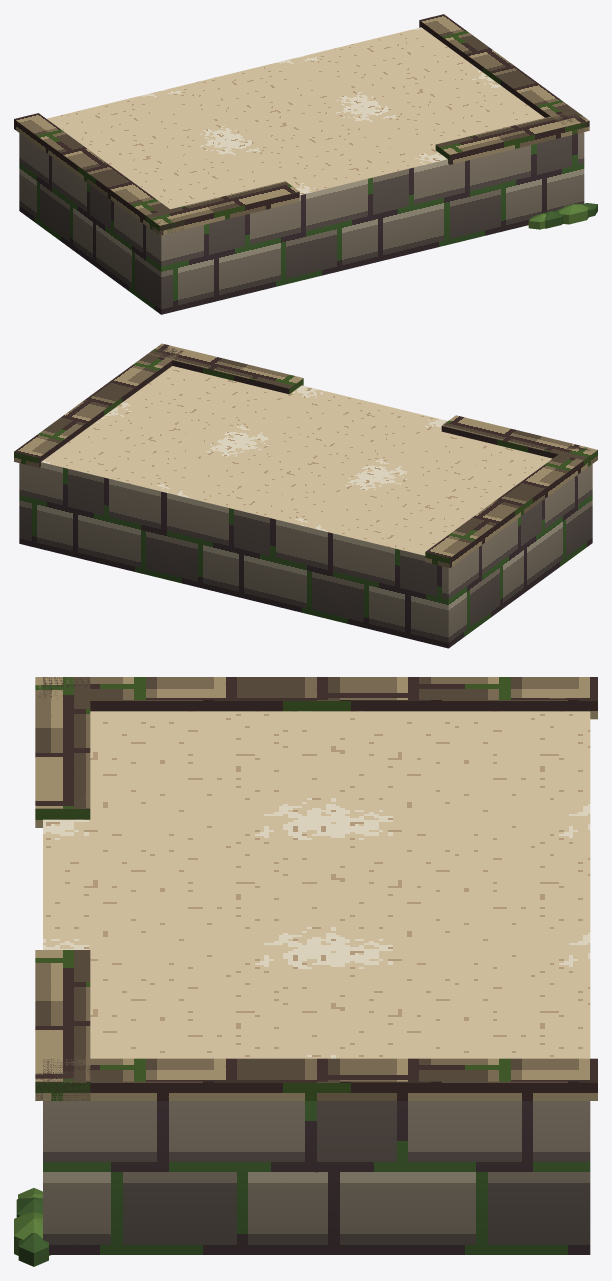
File: scene_landing.glb
The picture shows the model from 3 angles, top to bottom: view 1: azimuth 30°, elevation 25°; view 2: azimuth 150°, elevation 25°; view 3: azimuth 270°, elevation 25°; orthographic projection. The views are drawn at different scales.
Visible parts, largest first — view 1: scene_landing; view 2: scene_landing; view 3: scene_landing.
Boxes of the visible parts, left/top/right/bottom form: scene_landing: left=14, top=14, right=597, bottom=314; scene_landing: left=14, top=343, right=597, bottom=648; scene_landing: left=14, top=677, right=597, bottom=1266.
Size of the model in its own units: 6.42 by 1.37 by 3.84.
3 materials, 2 textured.
